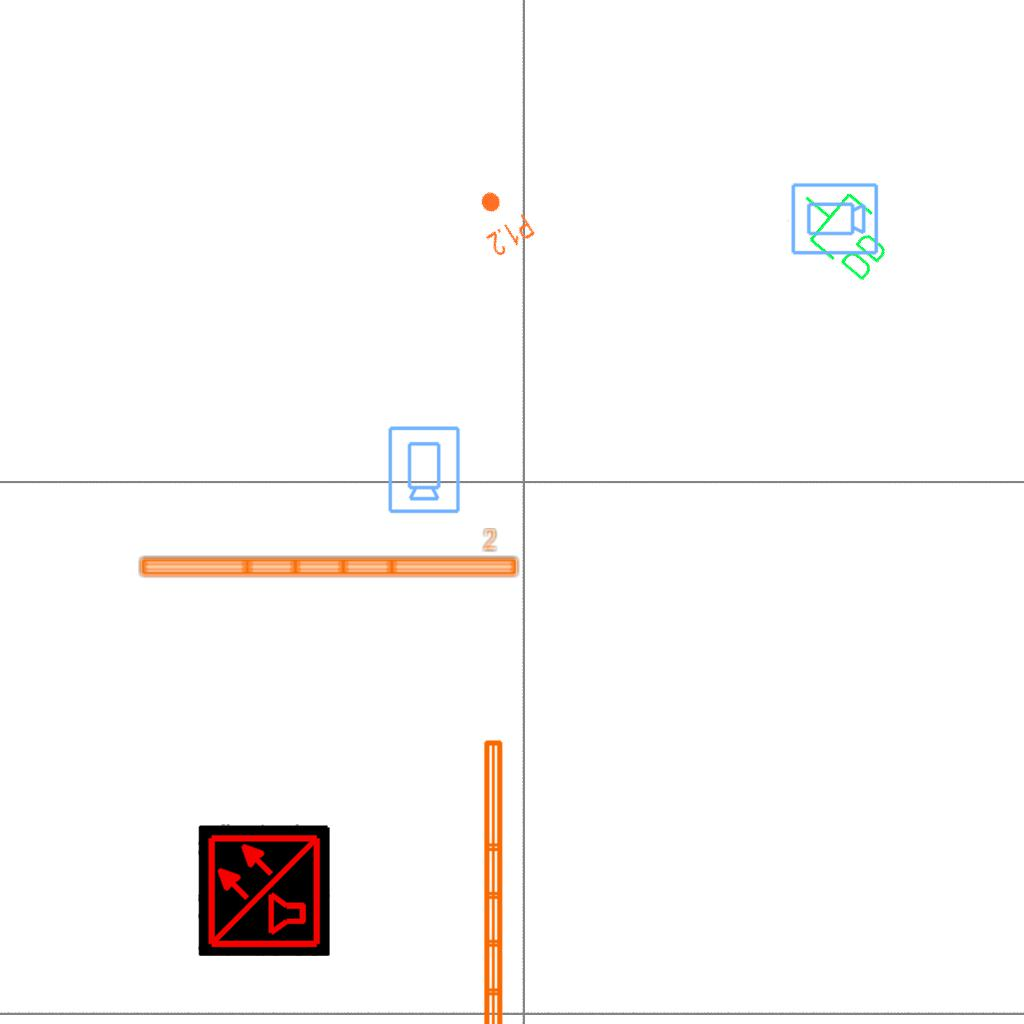Ambulanz_Pendelleuchte_LED: (135, 526, 522, 582), (478, 735, 534, 1024)
Datenanschluss_zweifach: (781, 169, 906, 290)
Downlight_LED_Einbauleuchten_Flur: (464, 180, 538, 260)
KFO_Kamera_mit_Festobjektiv: (385, 424, 462, 515), (789, 181, 880, 258)
OKW_Multisensormelder_(Kombination_optischer_Rauch-Kahlenmonoxid_Waerme-Melder): (198, 824, 330, 956)
